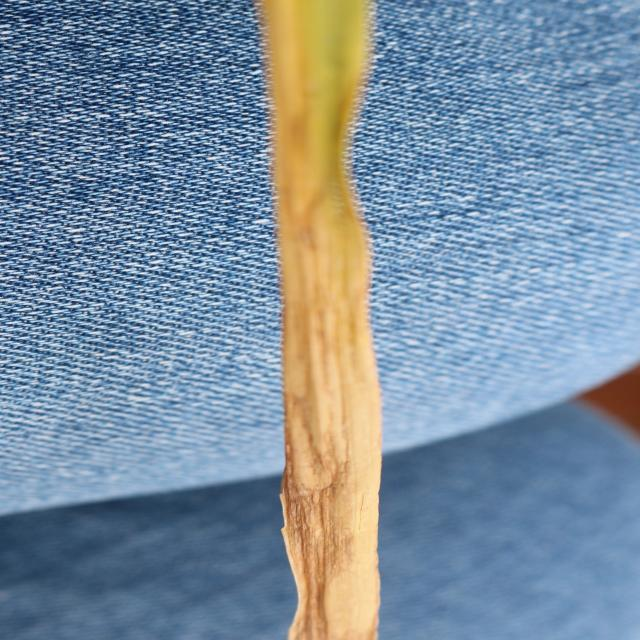Septoria: (260, 1, 386, 638)
